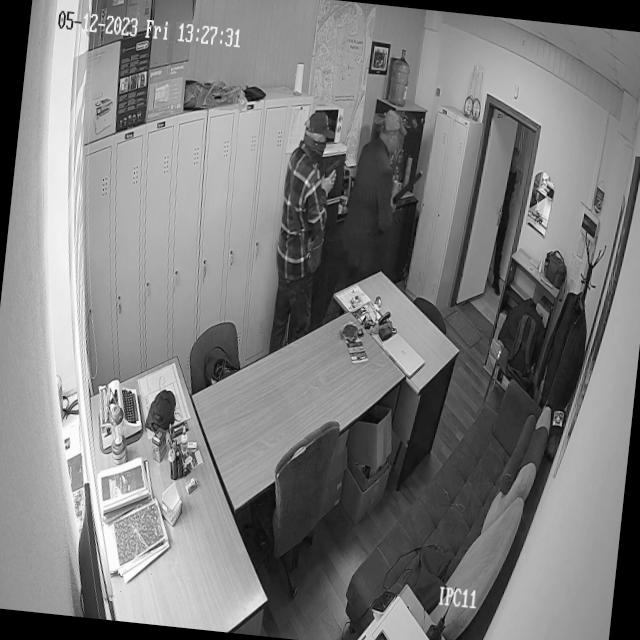gun: (320, 153, 343, 197)
person: (340, 103, 430, 270)
person with a gun: (268, 102, 350, 322)
